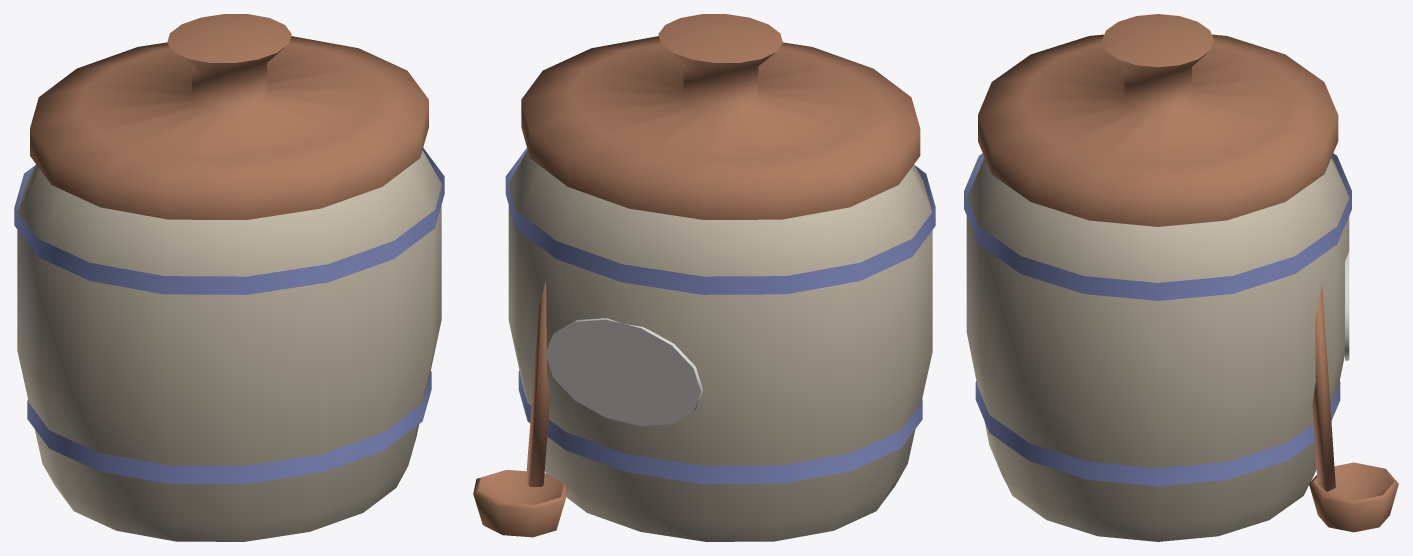
Rendered from salt_crock.glb.
3 views of the same model, side by side, from view 1: azimuth 30°, elevation 25°; view 2: azimuth 150°, elevation 25°; view 3: azimuth 270°, elevation 25° (orthographic).
Parts seen in each view (by area): view 1: salt_crock; view 2: salt_crock; view 3: salt_crock.
Part boxes in pixels (x1,y1,x2,y2): salt_crock: (14,14,444,541); salt_crock: (473,14,935,541); salt_crock: (964,14,1398,541).
Size of what is drawn, in the model's own units: 0.18 by 0.2 by 0.18.
